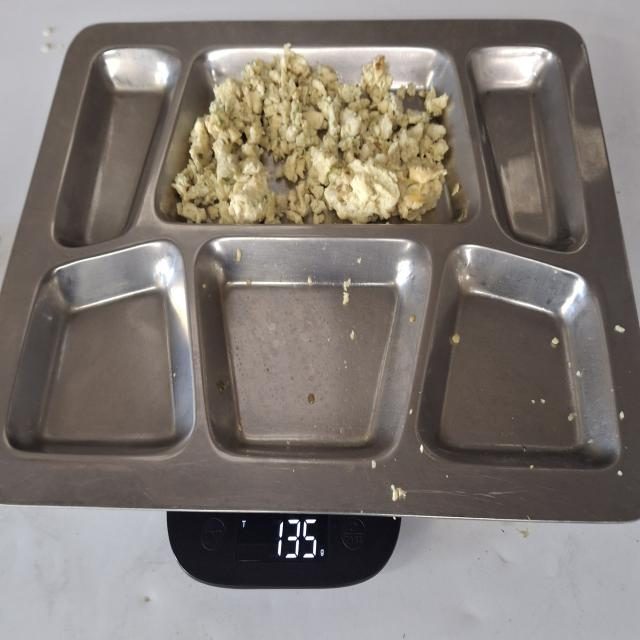Egg Bhurji: (174, 51, 450, 226)
